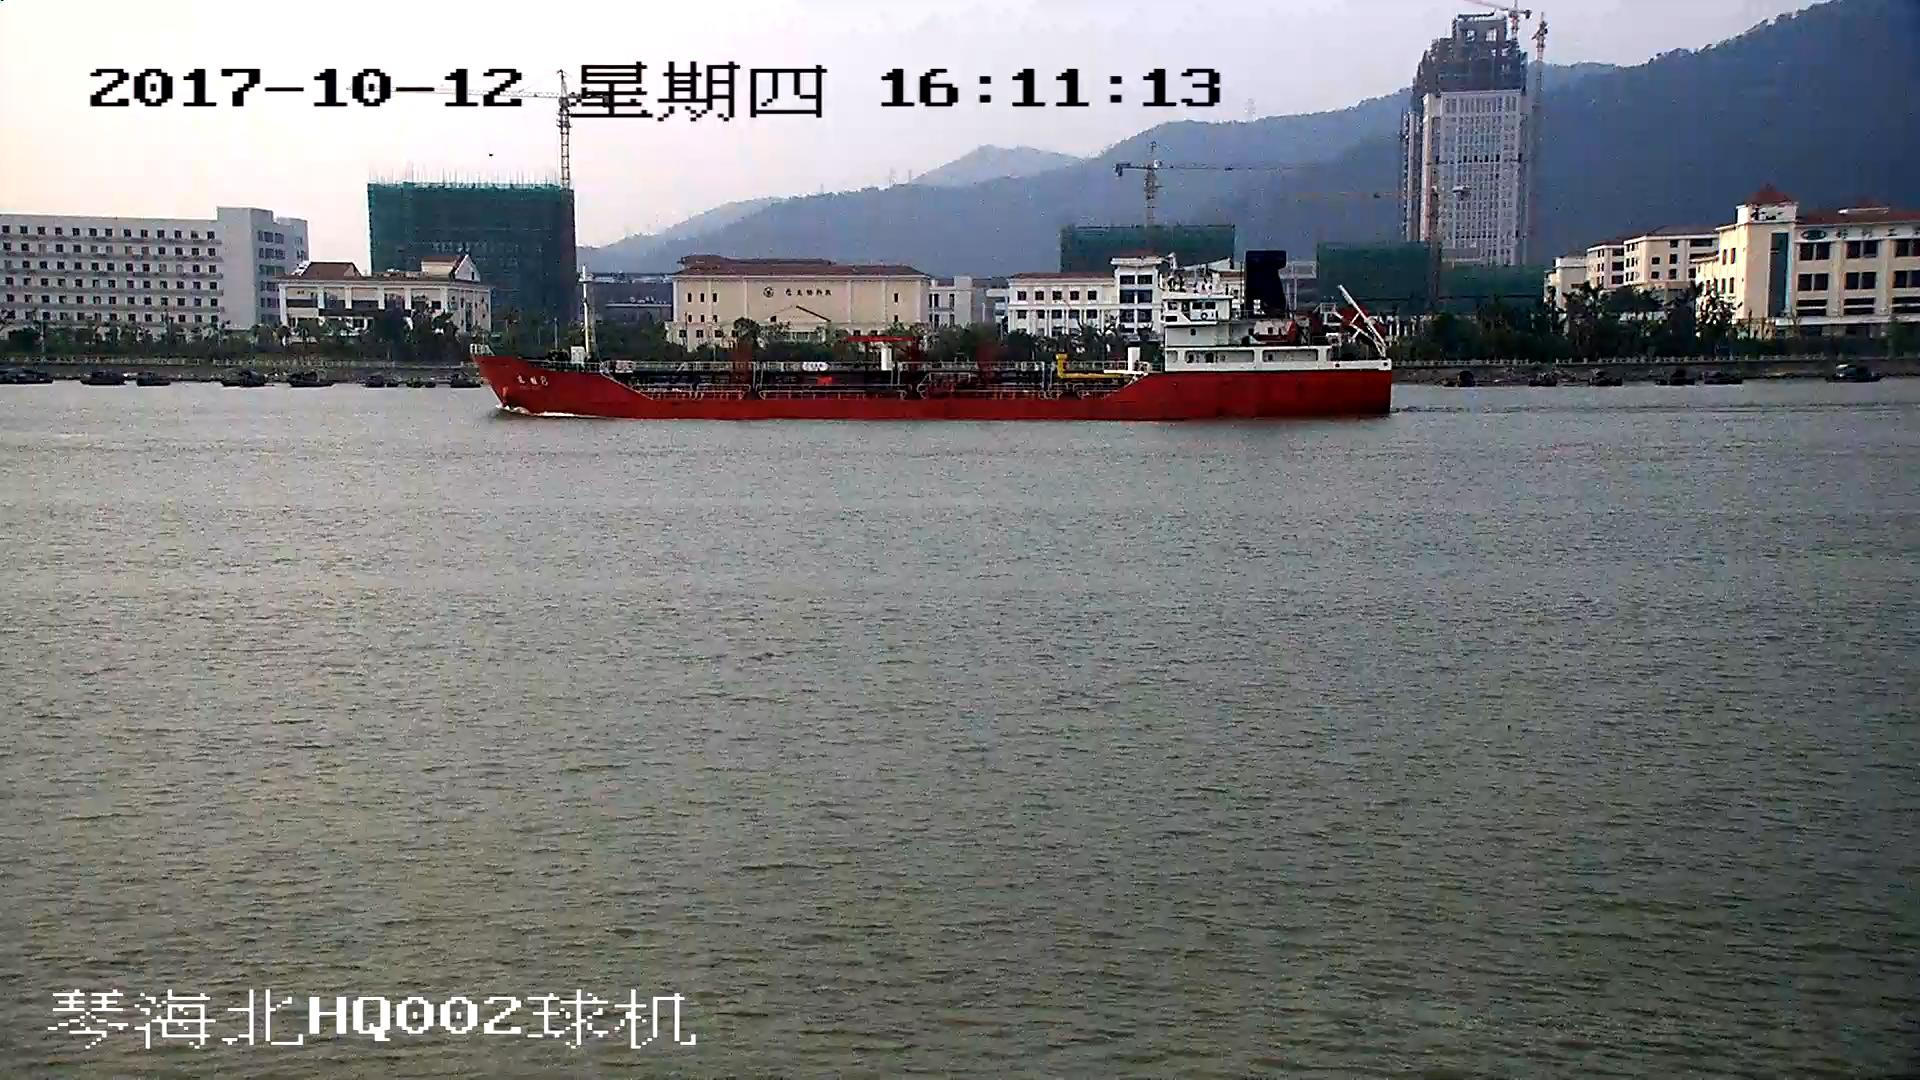general cargo ship: (468, 260, 1393, 421)
